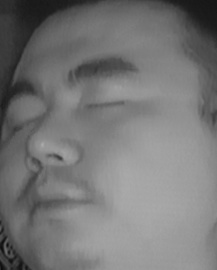blink: (82, 91, 127, 122), (5, 105, 46, 133)
mouth: (23, 176, 92, 225)
